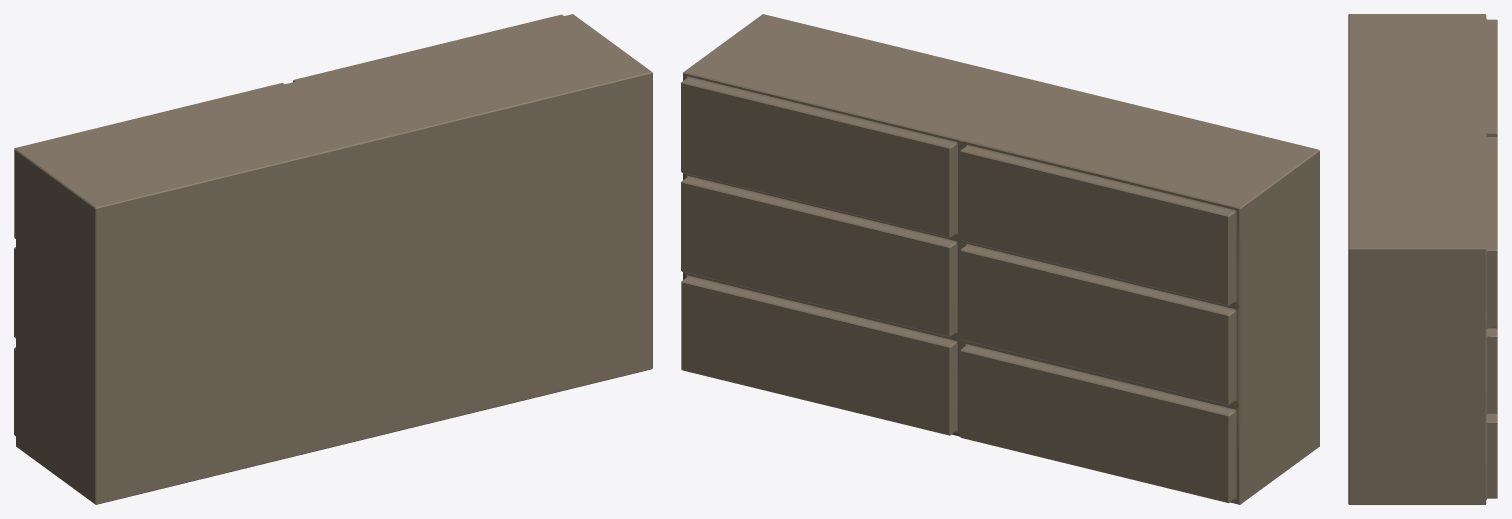
The picture shows the model from 3 angles, left to right: view 1: azimuth 30°, elevation 25°; view 2: azimuth 150°, elevation 25°; view 3: azimuth 270°, elevation 25°; orthographic projection. The views are drawn at different scales.
Visible parts, largest first — view 1: pCube14; view 2: pCube14; view 3: pCube14.
Boxes of the visible parts, bbox=[...] form: pCube14: bbox=[14, 14, 652, 504]; pCube14: bbox=[681, 14, 1319, 504]; pCube14: bbox=[1348, 14, 1497, 504].
Bounding box in the file's own units: 3.39 × 1.73 × 0.9109.
